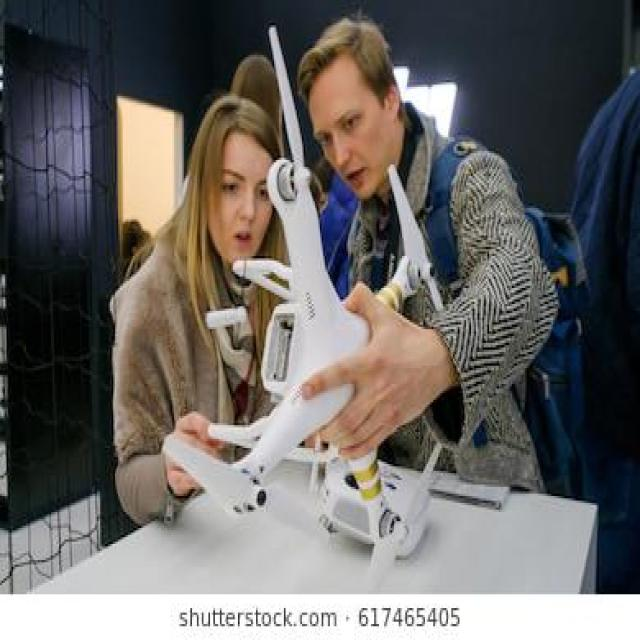drone: (148, 0, 460, 590)
